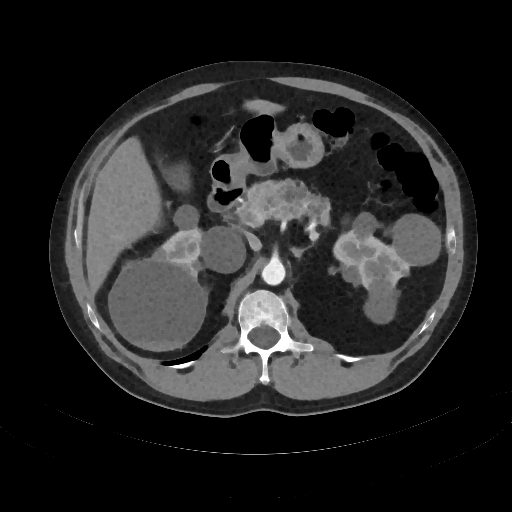Lesion: (105, 256, 210, 352)
